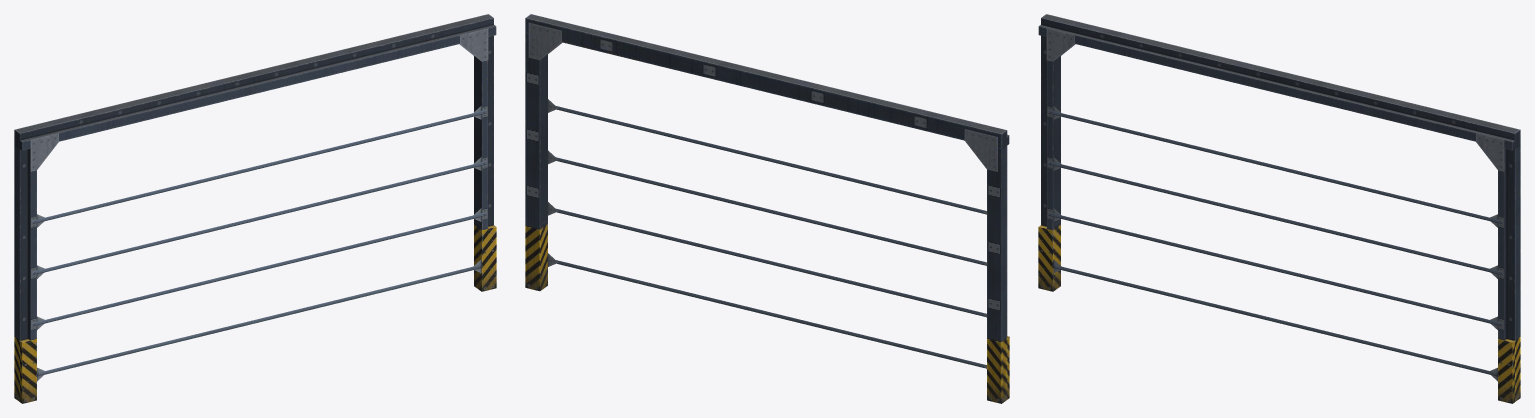
The model's file is dock-door-frame.glb.
The picture shows the model from 3 angles, left to right: view 1: azimuth 30°, elevation 25°; view 2: azimuth 150°, elevation 25°; view 3: azimuth 330°, elevation 25°; orthographic projection.
Parts seen in each view (by area): view 1: Dock-door-frameBody; view 2: Dock-door-frameBody; view 3: Dock-door-frameBody.
Boxes of the visible parts, bbox=[...] form: Dock-door-frameBody: bbox=[14, 14, 496, 403]; Dock-door-frameBody: bbox=[525, 14, 1009, 403]; Dock-door-frameBody: bbox=[1038, 14, 1520, 403].
Size of the model in its own units: 9.7 by 5.25 by 0.285.
1 material, 1 textured.
